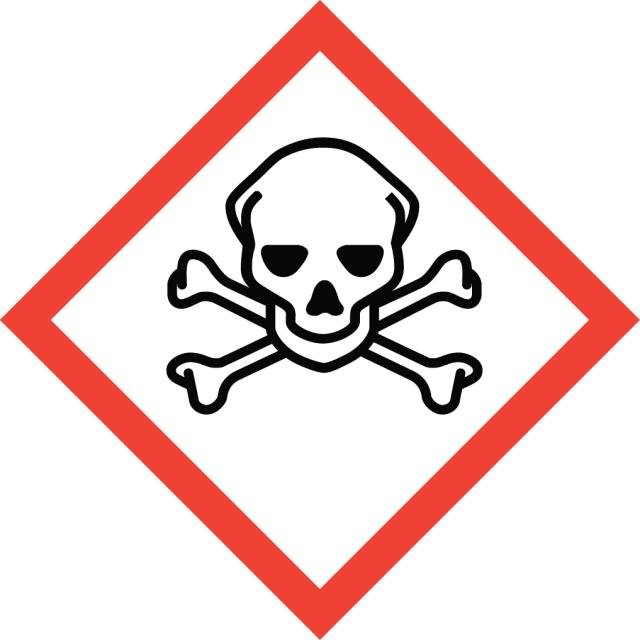toxic: (0, 2, 638, 640)
